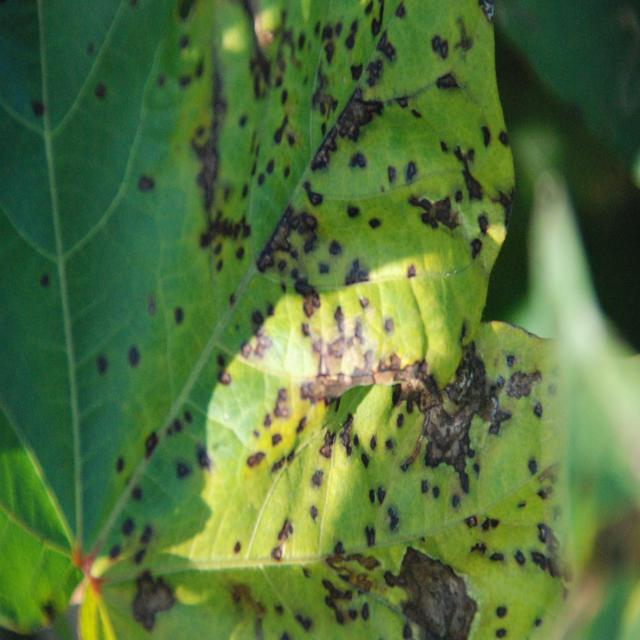Bacterial Blight: (309, 338, 545, 640), (200, 83, 431, 292)
